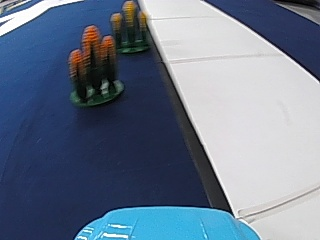corn: (65, 21, 122, 109), (110, 1, 150, 53)
